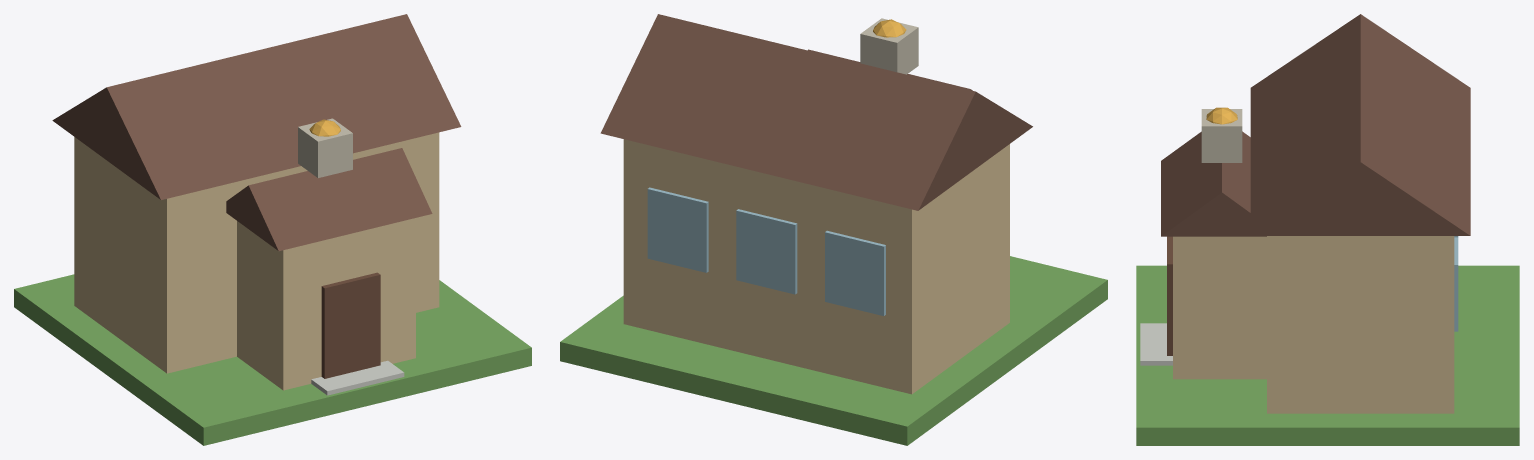
Rendered from school.glb.
3 renders of one model, left to right at view 1: azimuth 30°, elevation 25°; view 2: azimuth 150°, elevation 25°; view 3: azimuth 270°, elevation 25°, orthographic. The views are drawn at different scales.
Visible parts, largest first — view 1: school; view 2: school; view 3: school.
Boxes of the visible parts, x1,y1,x2,y2 form: school: [14, 14, 531, 445]; school: [560, 14, 1107, 445]; school: [1136, 14, 1519, 445].
Size of the model in its own units: 0.94 by 0.75 by 0.94.
